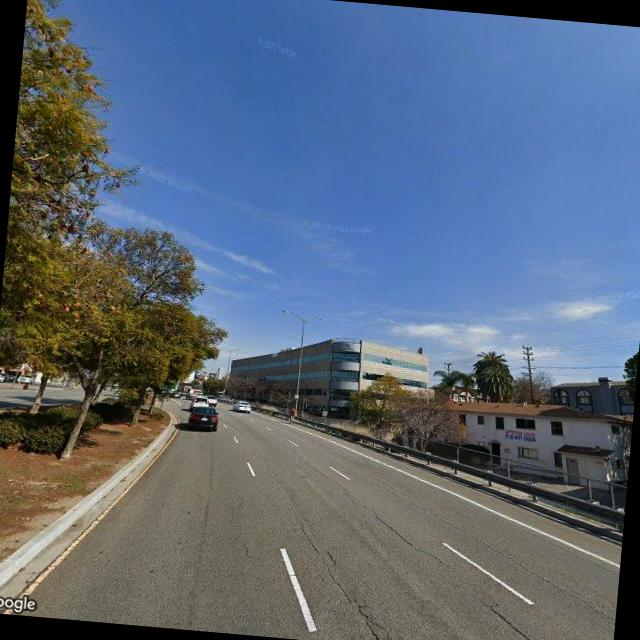crack: (271, 502, 414, 640), (363, 508, 457, 570), (483, 600, 566, 640)
